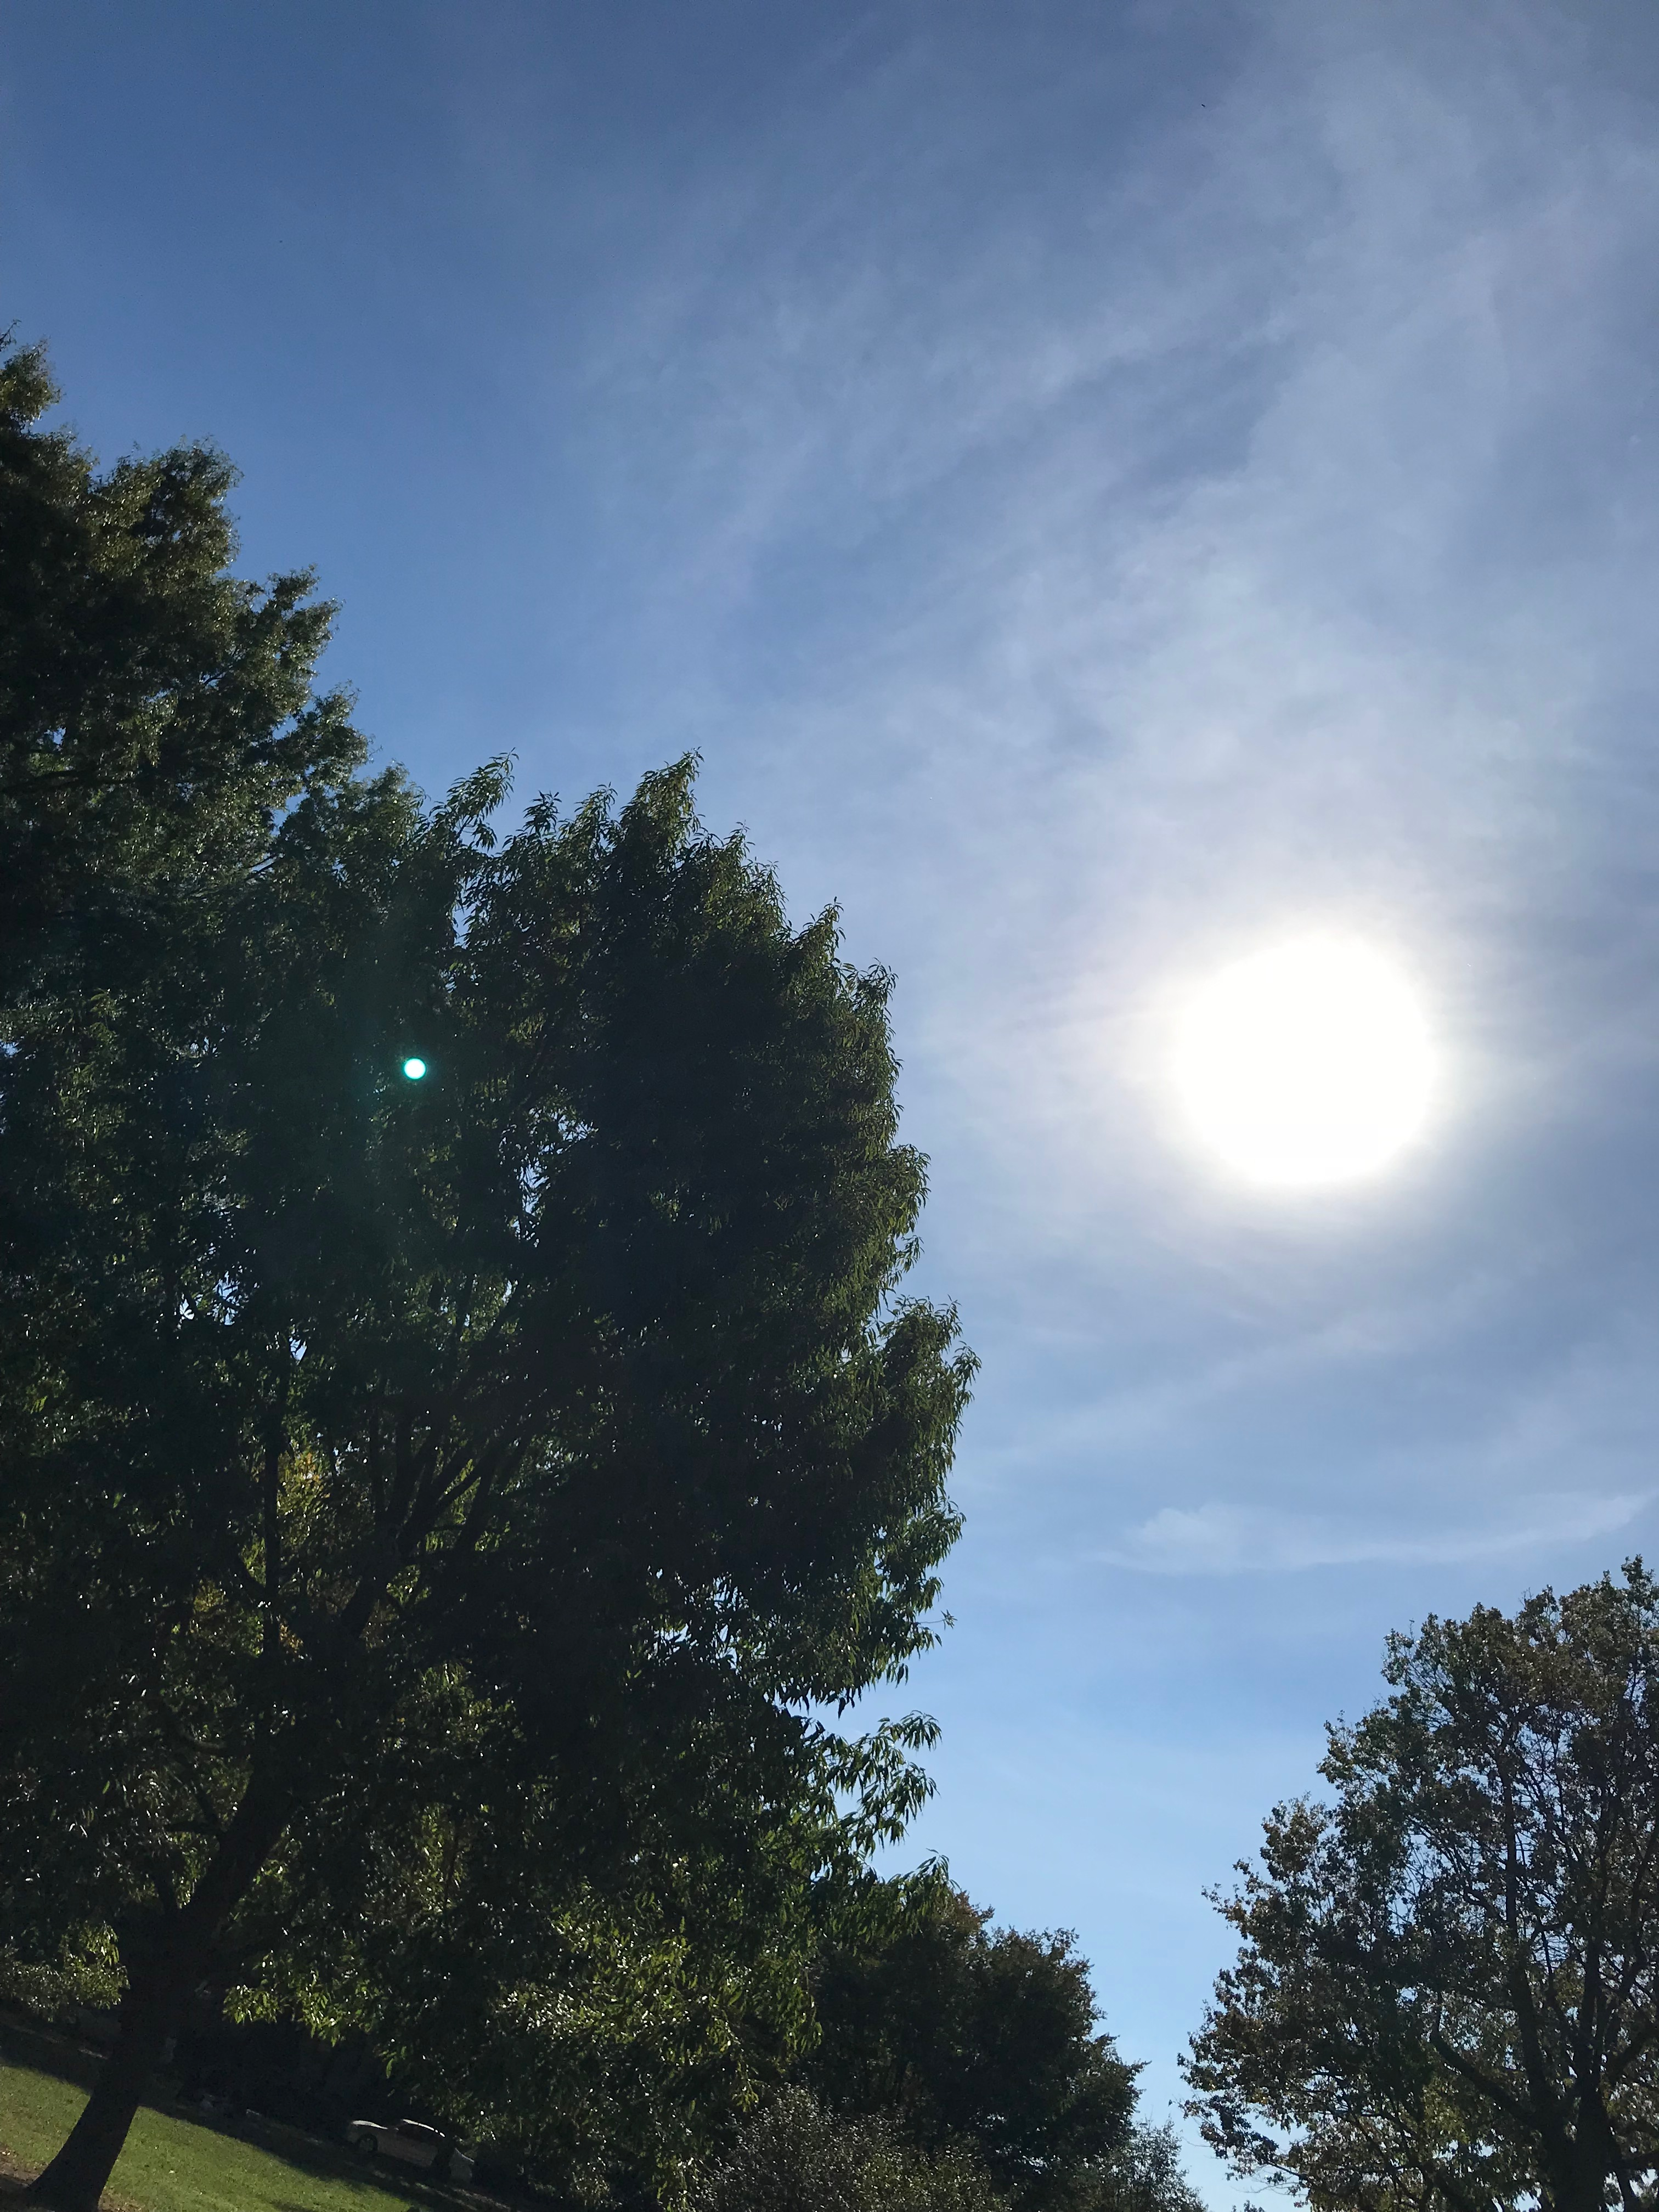flare: (403, 1057, 429, 1082)
